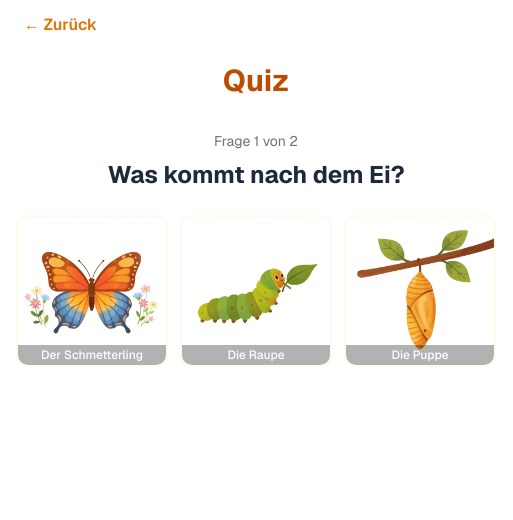
Scenario: LessonFlow — Wiederholungs-Modus (?mode=quiz) › completes quiz and shows correct result screen
Click the button labelled "Die Raupe". click: click(256, 291)
box: x1=180 y1=215 x2=332 y2=367
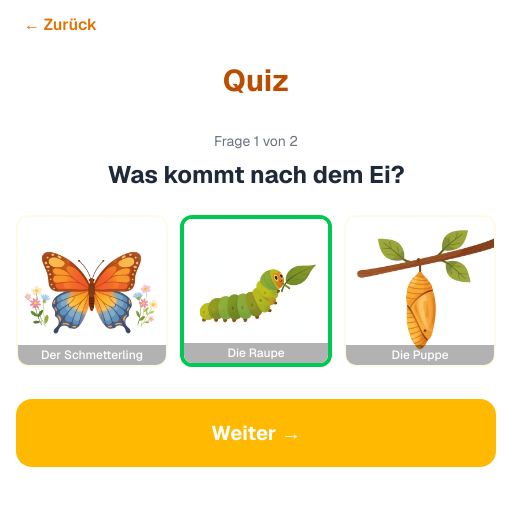
Click the button "Weiter →". click: click(256, 433)
box: x1=16 y1=399 x2=496 y2=467
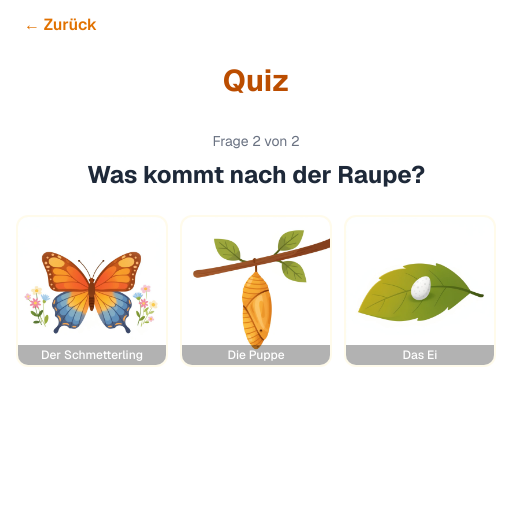
Click the button labelled "Die Puppe". click: click(256, 291)
box: x1=180 y1=215 x2=332 y2=367
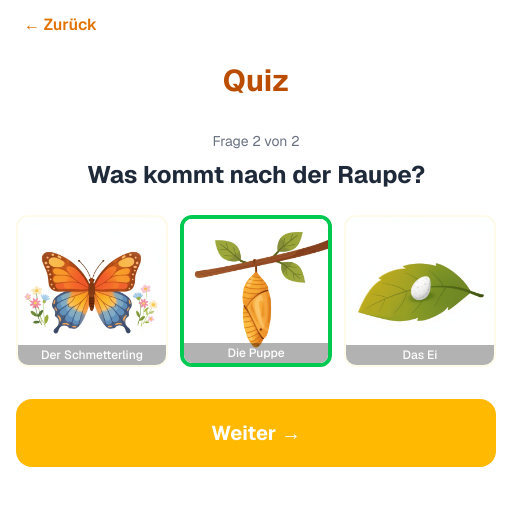
Click the button "Weiter →". click: click(256, 433)
box: x1=16 y1=399 x2=496 y2=467
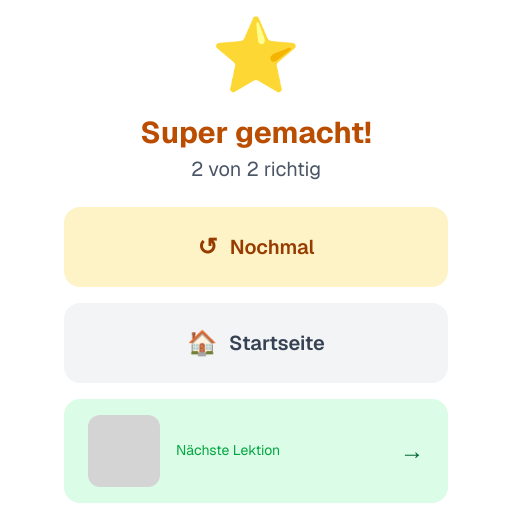
Check: the heading "Super gemacht!" is shown, box x1=140 y1=115 x2=372 y2=151
Check: the text "2 von 2 richtig" is shown, box x1=191 y1=156 x2=321 y2=182
